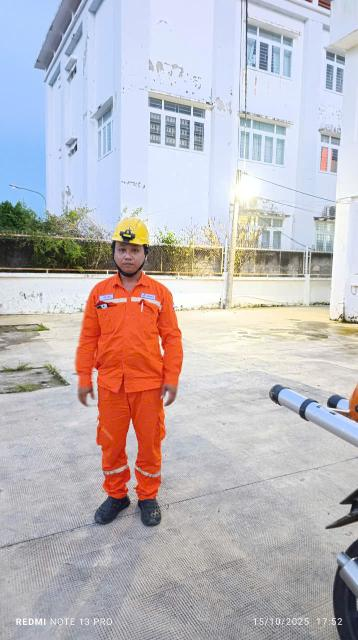helmet: (111, 209, 153, 248)
shoes: (91, 479, 131, 526), (138, 486, 164, 530)
